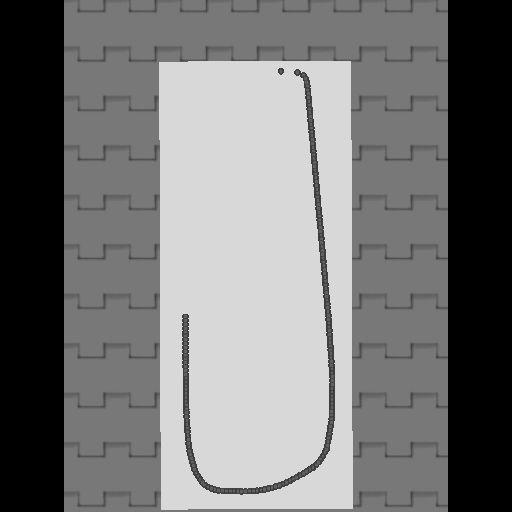Defect: (182, 80, 240, 311)
